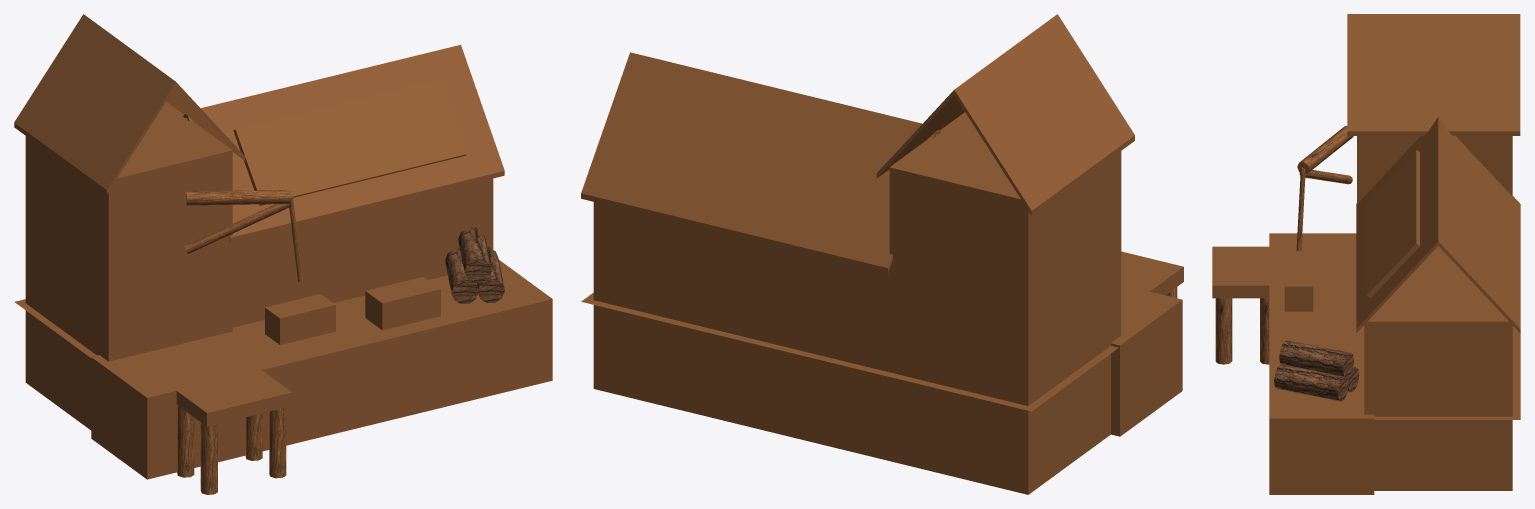
File: lumber-selection.fbx
3 views of the same model, side by side, from view 1: azimuth 30°, elevation 25°; view 2: azimuth 150°, elevation 25°; view 3: azimuth 270°, elevation 25° (orthographic). The views are drawn at different scales.
Visible parts, largest first — view 1: PickVolume, ShoreFootprint; view 2: PickVolume, ShoreFootprint; view 3: PickVolume, ShoreFootprint.
Part boxes in pixels (box(x1,y1,x2,y2)): PickVolume: box(14, 14, 552, 494); ShoreFootprint: box(14, 299, 96, 357); PickVolume: box(581, 14, 1183, 494); ShoreFootprint: box(581, 293, 1118, 411); PickVolume: box(1212, 14, 1520, 494); ShoreFootprint: box(1374, 326, 1520, 419).
Size of the model in its own units: 0.0247 by 0.0206 by 0.0174.
